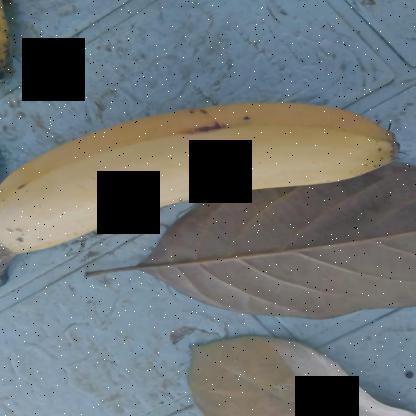freshripe: (1, 81, 396, 276)
